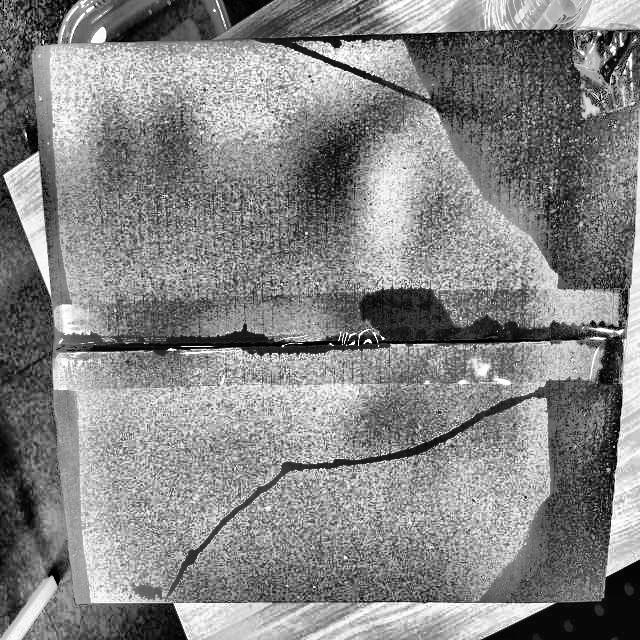box: (21, 31, 640, 610)
wet: (373, 23, 640, 289), (507, 353, 622, 614)
